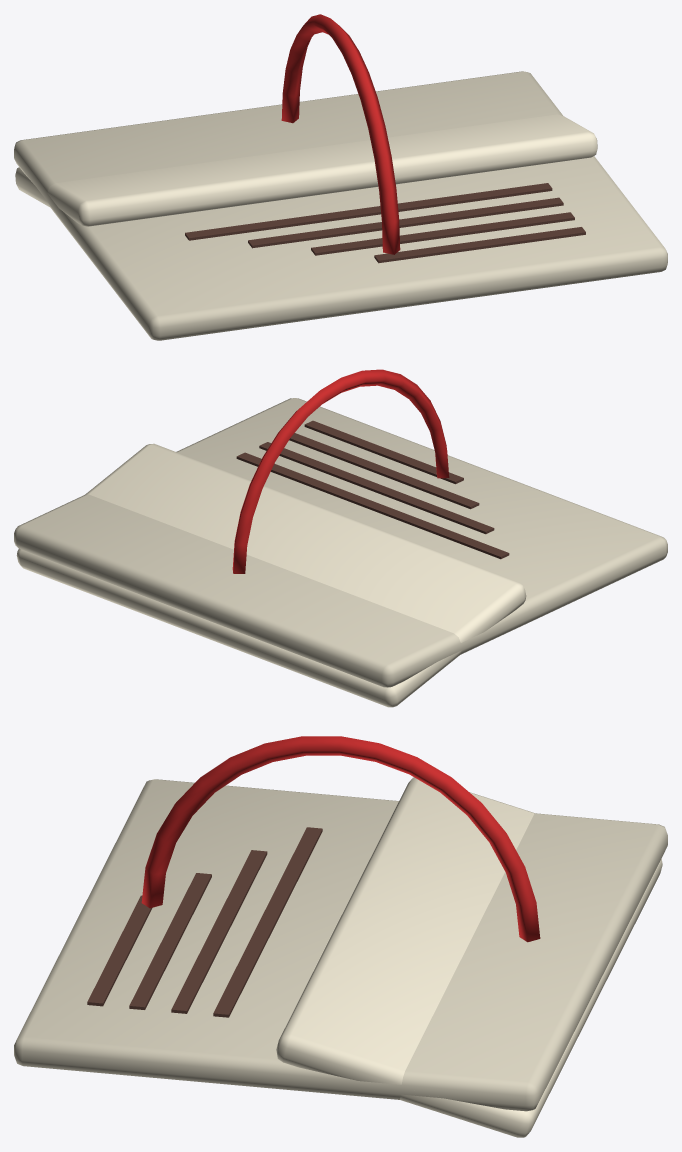
The model's file is grandpa_note.fbx.
3 renders of one model, top to bottom at view 1: azimuth 30°, elevation 25°; view 2: azimuth 150°, elevation 25°; view 3: azimuth 270°, elevation 25°, orthographic. The views are drawn at different scales.
Visible parts, largest first — view 1: Grandpa's Note; view 2: Grandpa's Note; view 3: Grandpa's Note.
Boxes of the visible parts, x1,y1,x2,y2 form: Grandpa's Note: [14, 14, 667, 340]; Grandpa's Note: [14, 369, 667, 707]; Grandpa's Note: [14, 736, 667, 1137].
Bounding box in the file's own units: 0.6867 × 0.2578 × 0.6097.
